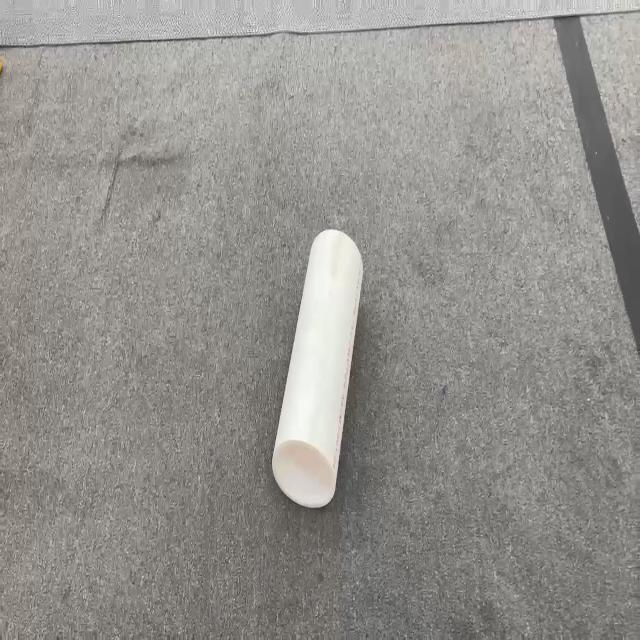coral: (270, 226, 364, 508)
